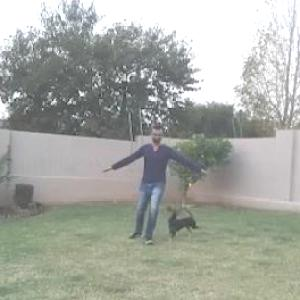land: (112, 130, 216, 251)
